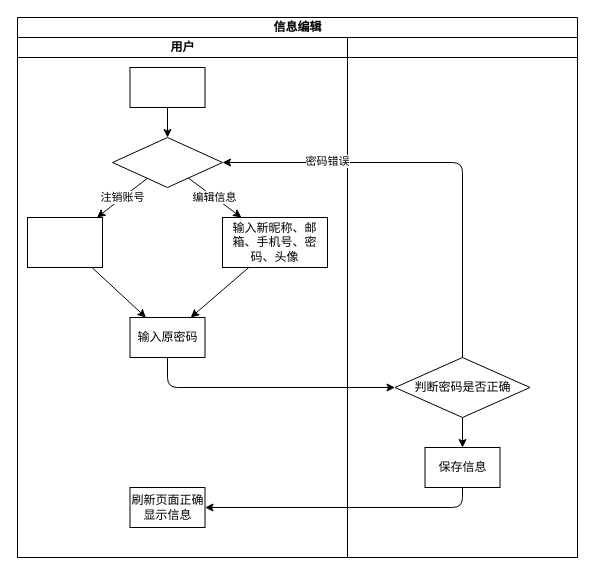
Image size: 595x575. Some labels were removed from this diagram. The shapes that lost their labels are listed below. From the top down, each one's box as (x1, y1, x2, y2) in pixels, then its label:
(129, 66, 205, 108): 编辑界面
(112, 136, 222, 188): 编辑信息或注销账号
(26, 216, 102, 268): 提示是否注销
(346, 36, 578, 558): 系统
